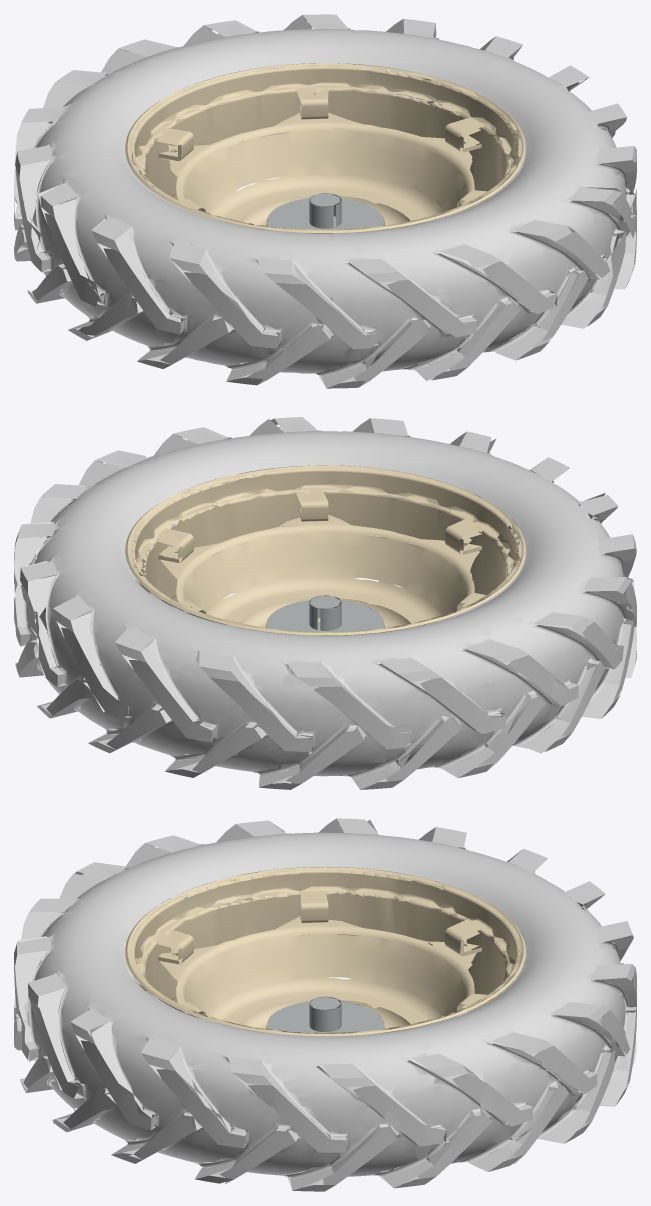
Rendered from rear_right_wheel_visual.obj.
3 renders of one model, top to bottom at view 1: azimuth 30°, elevation 25°; view 2: azimuth 150°, elevation 25°; view 3: azimuth 270°, elevation 25°, orthographic.
Visible parts, largest first — view 1: rear_right_wheel_visual; view 2: rear_right_wheel_visual; view 3: rear_right_wheel_visual.
Boxes of the visible parts, box(x1,y1,x2,y2) form: rear_right_wheel_visual: box(14, 14, 636, 388); rear_right_wheel_visual: box(14, 417, 636, 789); rear_right_wheel_visual: box(14, 818, 636, 1191).
Size of the model in its own units: 0.4771 by 0.1082 by 0.477.
